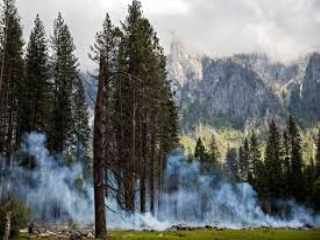smoke: (6, 130, 316, 234)
